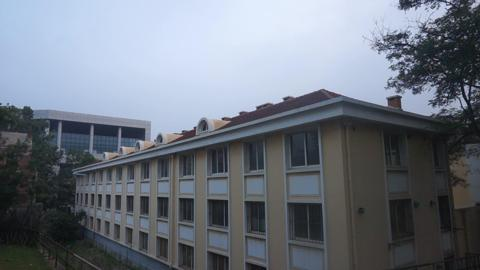UAV: (72, 173, 87, 179)
